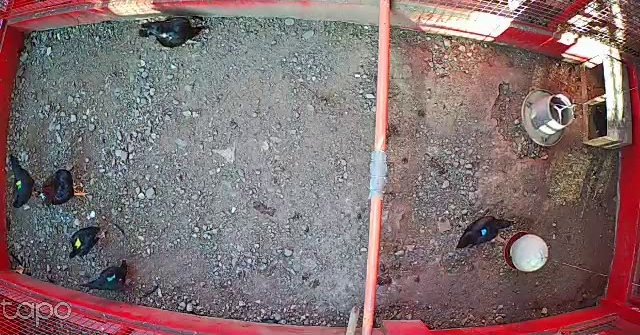Chicken: (137, 11, 215, 56), (452, 208, 519, 255), (79, 258, 133, 293), (68, 218, 108, 261), (8, 153, 34, 212)
Saddle_Color_Blue: (480, 227, 487, 236)
Saddle_Color_Yellow: (73, 236, 85, 247)
Saddle_Color_YellowGreen: (15, 180, 24, 192)
